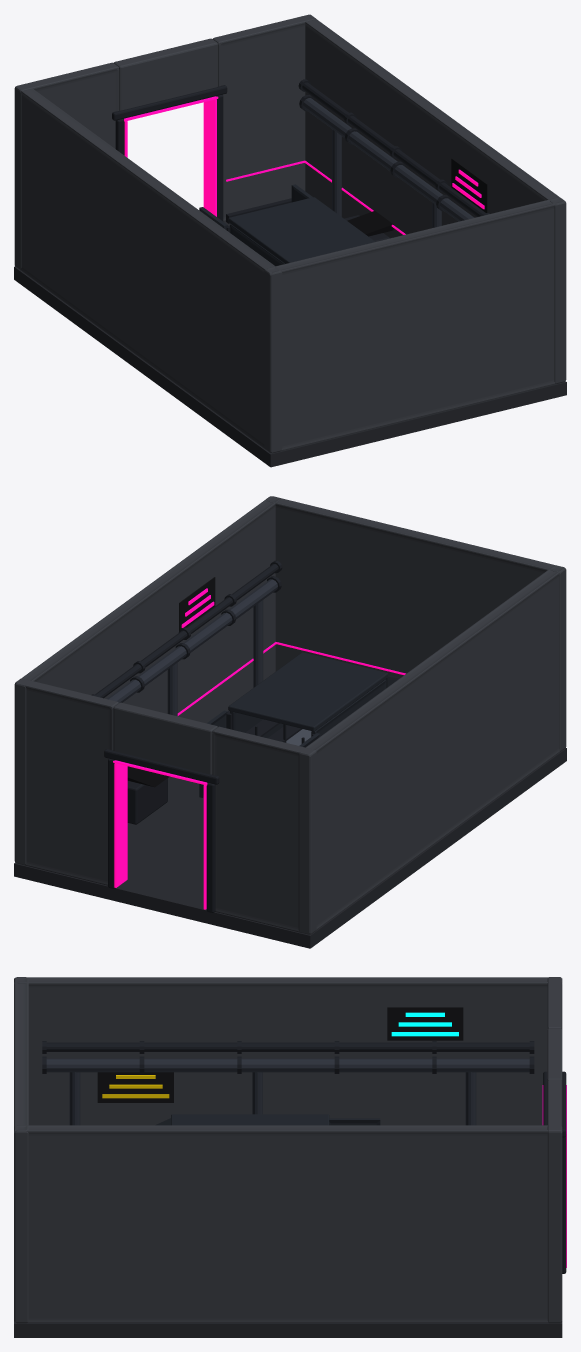
The model's file is Mod_Spawn_Extraction.fbx.
The picture shows the model from 3 angles, top to bottom: view 1: azimuth 30°, elevation 25°; view 2: azimuth 150°, elevation 25°; view 3: azimuth 270°, elevation 25°; orthographic projection. The views are drawn at different scales.
Visible parts, largest first — view 1: Mod_Spawn_Extraction__ConcreteWall, Mod_Spawn_Extraction__ConcreteFloor, Mod_Spawn_Extraction__VanPaint, Mod_Spawn_Extraction__DarkMetal, Mod_Spawn_Extraction__SteelPanel, Mod_Spawn_Extraction__NeonCrimson, Mod_Spawn_Extraction__CarbonFiber, Mod_Spawn_Extraction__Rubber; view 2: Mod_Spawn_Extraction__ConcreteWall, Mod_Spawn_Extraction__ConcreteFloor, Mod_Spawn_Extraction__VanPaint, Mod_Spawn_Extraction__DarkMetal, Mod_Spawn_Extraction__SteelPanel, Mod_Spawn_Extraction__NeonCrimson, Mod_Spawn_Extraction__CarbonFiber; view 3: Mod_Spawn_Extraction__ConcreteWall, Mod_Spawn_Extraction__SteelPanel, Mod_Spawn_Extraction__ConcreteFloor, Mod_Spawn_Extraction__DarkMetal, Mod_Spawn_Extraction__CarbonFiber, Mod_Spawn_Extraction__VanPaint, Mod_Spawn_Extraction__NeonCyan, Mod_Spawn_Extraction__NeonGold.
Part boxes in pixels (x1,y1,x2,y2): Mod_Spawn_Extraction__ConcreteWall: (14,14,566,453); Mod_Spawn_Extraction__ConcreteFloor: (14,221,566,467); Mod_Spawn_Extraction__VanPaint: (199,184,375,266); Mod_Spawn_Extraction__DarkMetal: (112,79,489,241); Mod_Spawn_Extraction__SteelPanel: (303,98,474,227); Mod_Spawn_Extraction__NeonCrimson: (124,96,484,234); Mod_Spawn_Extraction__CarbonFiber: (451,158,487,212); Mod_Spawn_Extraction__Rubber: (347,211,393,236); Mod_Spawn_Extraction__ConcreteWall: (14,496,566,934); Mod_Spawn_Extraction__ConcreteFloor: (14,748,566,948); Mod_Spawn_Extraction__VanPaint: (199,652,400,797); Mod_Spawn_Extraction__DarkMetal: (91,560,314,912); Mod_Spawn_Extraction__SteelPanel: (107,579,277,716); Mod_Spawn_Extraction__NeonCrimson: (113,588,405,909); Mod_Spawn_Extraction__CarbonFiber: (179,577,215,630); Mod_Spawn_Extraction__ConcreteWall: (14,977,562,1323); Mod_Spawn_Extraction__SteelPanel: (46,1058,529,1125); Mod_Spawn_Extraction__ConcreteFloor: (14,1322,562,1337); Mod_Spawn_Extraction__DarkMetal: (42,1041,566,1273); Mod_Spawn_Extraction__CarbonFiber: (97,1007,463,1102); Mod_Spawn_Extraction__VanPaint: (155,1114,380,1125); Mod_Spawn_Extraction__NeonCyan: (391,1012,458,1036); Mod_Spawn_Extraction__NeonGold: (102,1075,169,1098).
Size of the model in its own units: 24 by 15 by 36.3.
